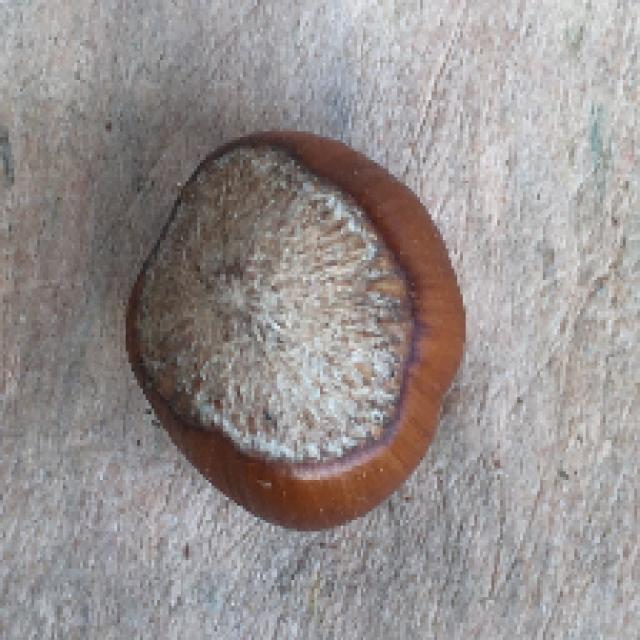qualityHazelnut: (109, 122, 476, 543)
